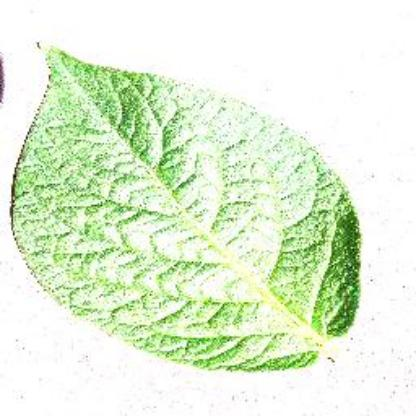Healthy-plant: (10, 23, 404, 409)
